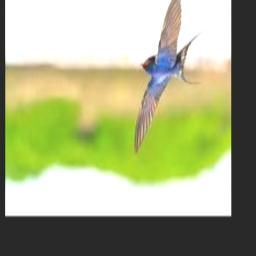Swallow: (135, 0, 209, 156)
